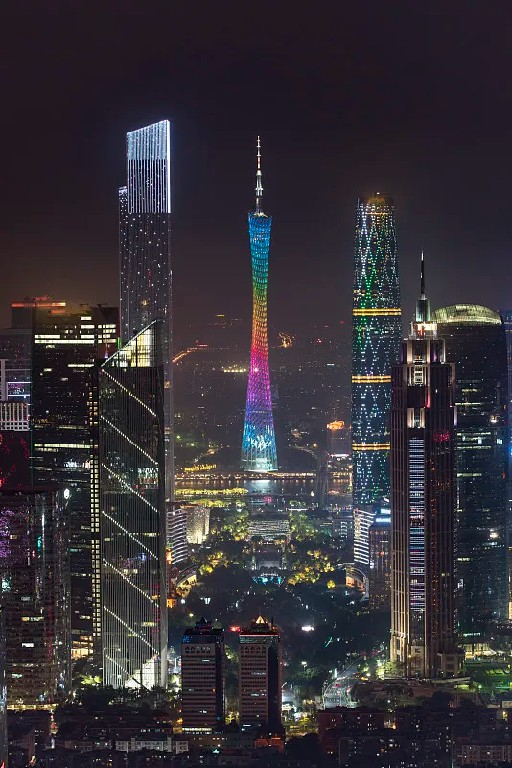Canton: (238, 129, 280, 474)
